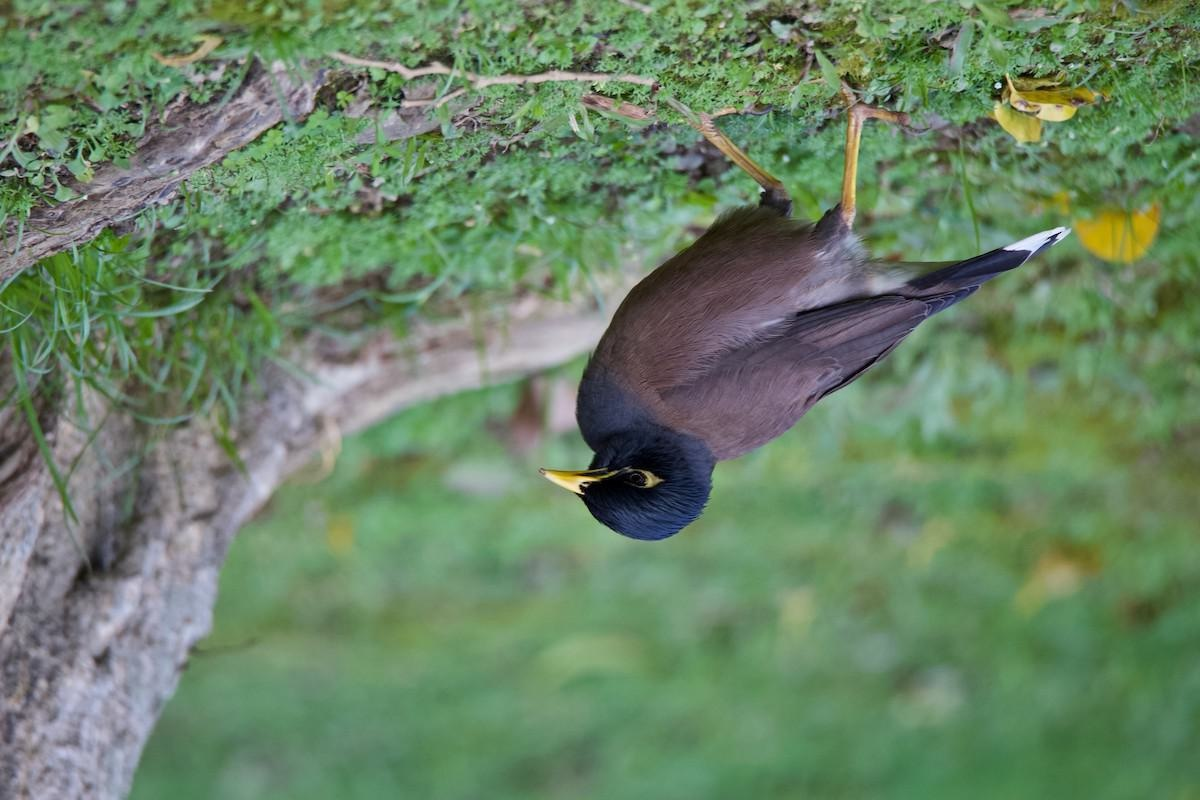myna: (525, 112, 1013, 591)
